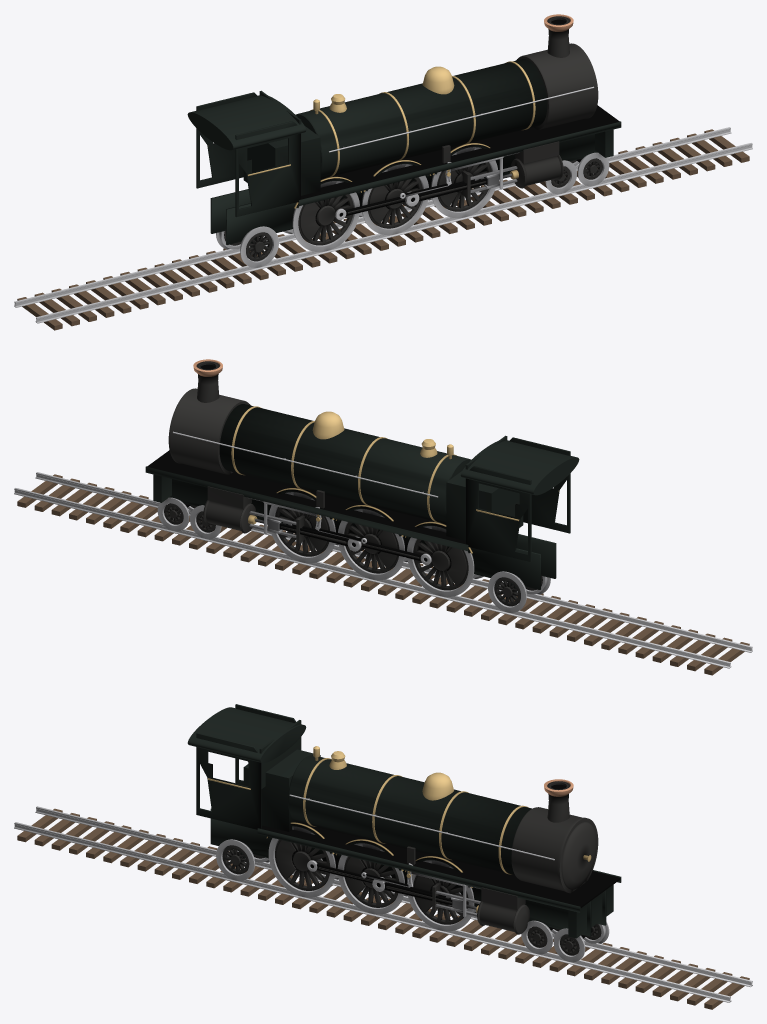
File: steam.glb
The picture shows the model from 3 angles, top to bottom: view 1: azimuth 30°, elevation 25°; view 2: azimuth 150°, elevation 25°; view 3: azimuth 330°, elevation 25°; orthographic projection.
Parts seen in each view (by area): view 1: boiler, sleepers, rail_L, footplate, smokebox, cab_roof, cab_L, rail_R, frame_L, firebox, valance_L, cab_R (+16 smaller); view 2: boiler, sleepers, rail_R, footplate, smokebox, cab_roof, cab_R, rail_L, frame_R, firebox, valance_R, cab_L (+16 smaller); view 3: boiler, sleepers, footplate, rail_L, smokebox, cab_roof, cab_L, rail_R, frame_L, valance_L, firebox, smokebox_door (+16 smaller).
Boxes of the visible parts, x1,y1,x2,y2 form: boiler: [296, 59, 547, 178]; sleepers: [17, 129, 749, 330]; rail_L: [35, 143, 752, 323]; footplate: [301, 105, 619, 199]; smokebox: [516, 43, 598, 129]; cab_roof: [187, 95, 306, 150]; cab_L: [235, 121, 300, 216]; rail_R: [14, 127, 731, 307]; frame_L: [226, 134, 597, 246]; firebox: [243, 126, 320, 195]; valance_L: [298, 121, 621, 205]; cab_R: [196, 92, 257, 188]; boiler: [219, 404, 470, 523]; sleepers: [17, 474, 749, 675]; rail_R: [14, 488, 731, 668]; footplate: [147, 450, 465, 544]; smokebox: [168, 388, 250, 474]; cab_roof: [460, 440, 579, 495]; cab_R: [466, 466, 531, 561]; rail_L: [35, 472, 752, 652]; frame_R: [169, 479, 540, 591]; firebox: [446, 471, 523, 540]; valance_R: [145, 466, 468, 550]; cab_L: [509, 437, 570, 533]; boiler: [288, 755, 531, 874]; sleepers: [17, 808, 749, 1009]; footplate: [262, 823, 620, 938]; rail_L: [14, 822, 731, 1002]; smokebox: [511, 807, 598, 893]; cab_roof: [187, 707, 306, 762]; cab_L: [196, 732, 261, 829]; rail_R: [35, 806, 752, 987]; frame_L: [210, 808, 591, 936]; valance_L: [257, 828, 580, 912]; firebox: [243, 749, 320, 831]; smokebox_door: [561, 822, 596, 889].
Size of the model in its own units: 30 by 6.78 by 3.56.
